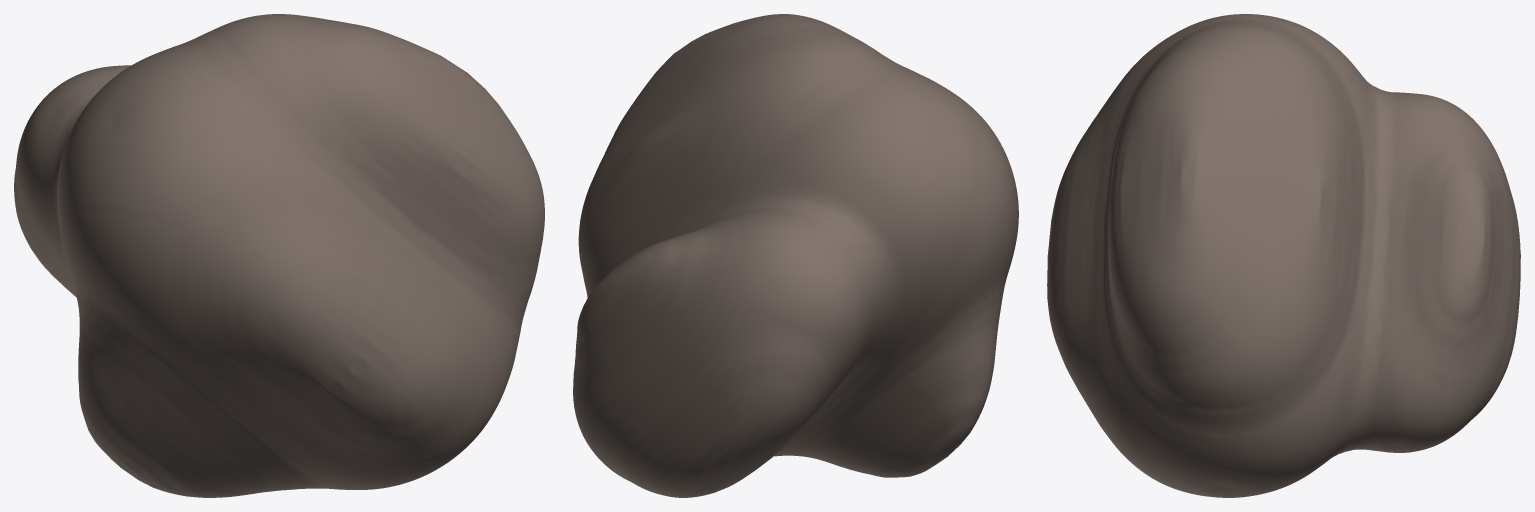
Rendered from particle1.glb.
3 renders of one model, left to right at view 1: azimuth 30°, elevation 25°; view 2: azimuth 150°, elevation 25°; view 3: azimuth 270°, elevation 25°, orthographic. The views are drawn at different scales.
Visible parts, largest first — view 1: mesh_id26; view 2: mesh_id26; view 3: mesh_id26.
Part boxes in pixels (x1,y1,x2,y2): mesh_id26: (14, 14, 544, 497); mesh_id26: (573, 14, 1018, 497); mesh_id26: (1047, 14, 1520, 497).
Size of the model in its own units: 0.4318 by 0.4322 by 0.4469.
Materials: 1 (1 with a texture image).
